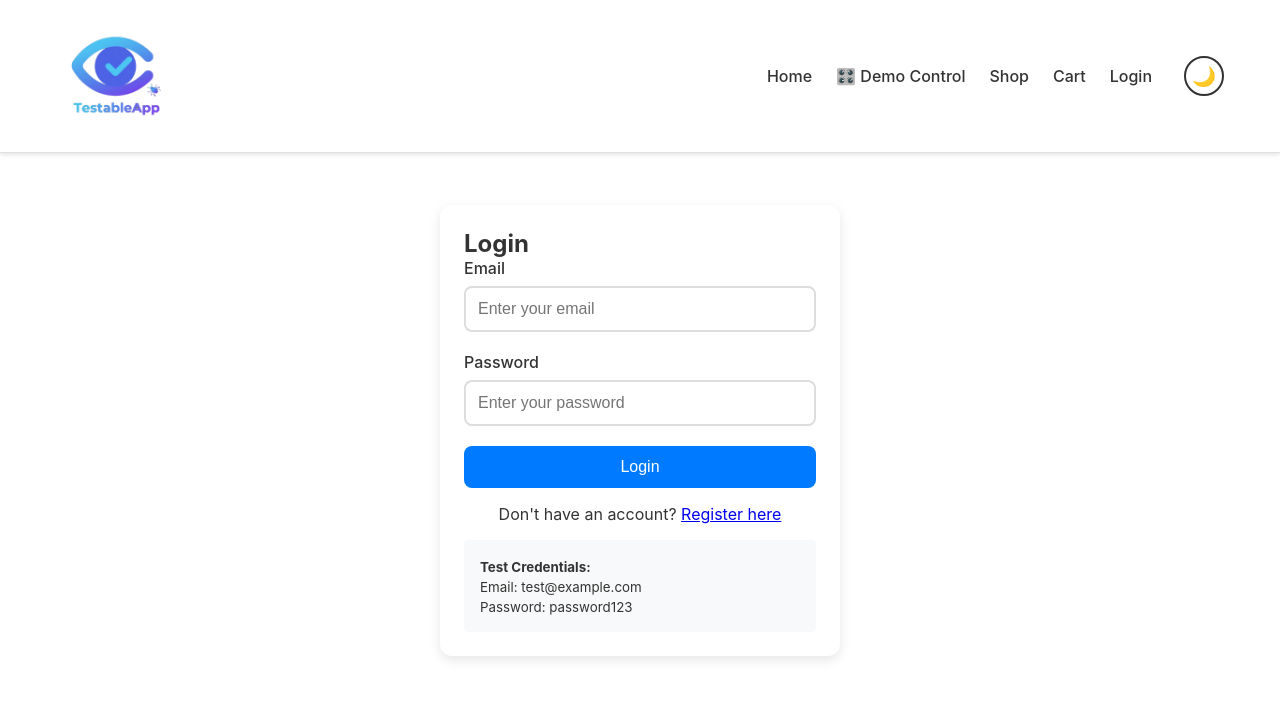
Test: Authentication Flow › Login Page › should show error for invalid credentials
Type "wrong@example.com" into the field with test id "email-input". click: (640, 309)
box: [464, 286, 816, 332]
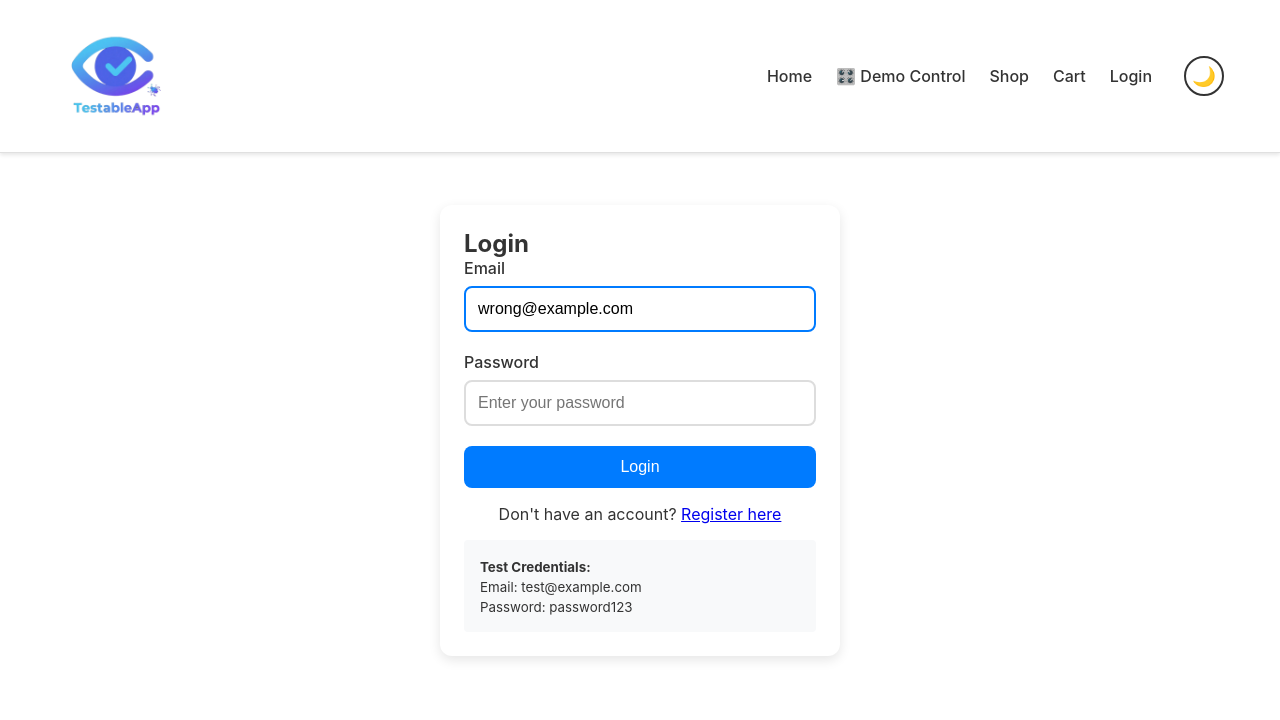
Type "wrongpassword" into the password field with test id "password-input". click: (640, 403)
box: [464, 380, 816, 426]
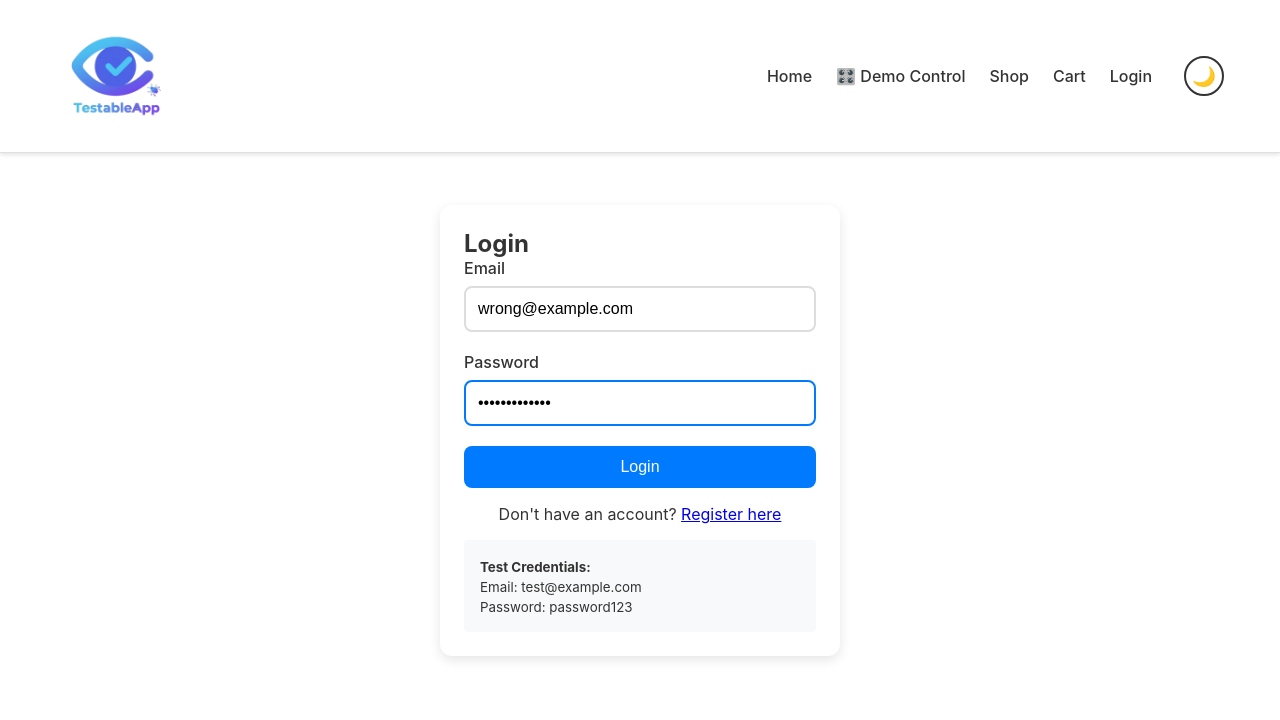
Click the button with test id "login-submit". click: (640, 467)
box: [464, 446, 816, 488]
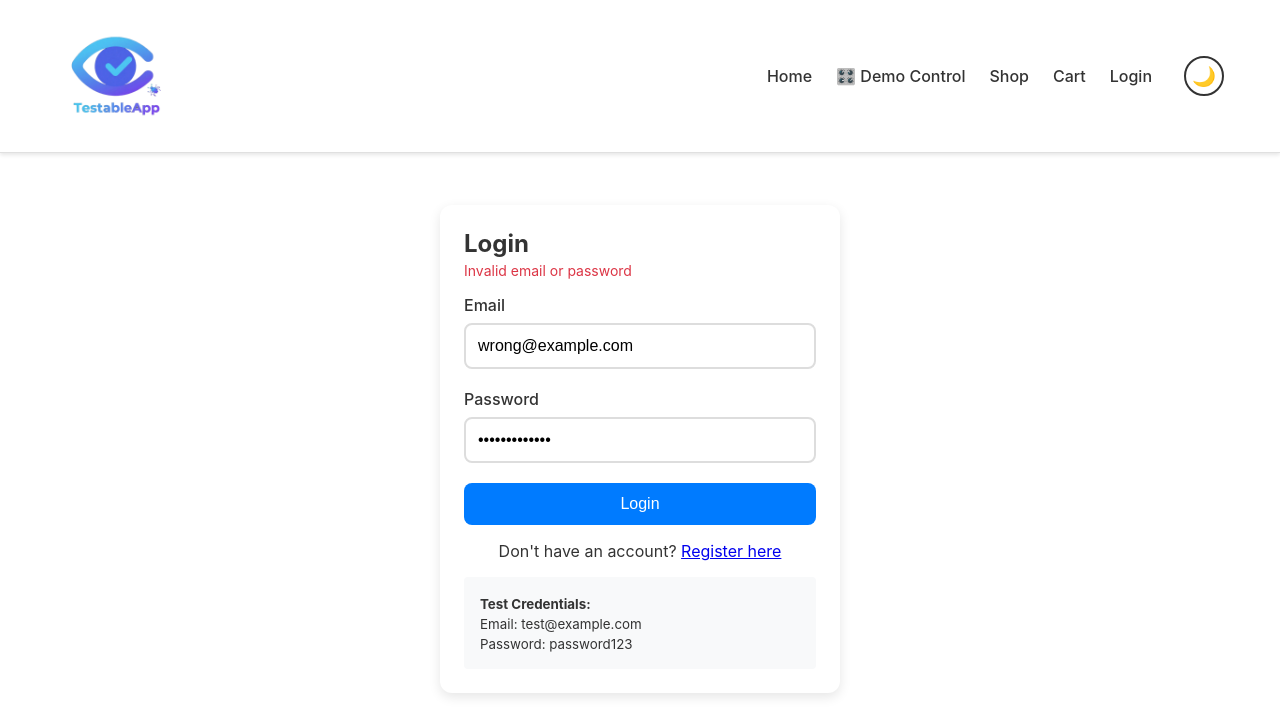
Result: the text with test id "login-error" reads "Invalid email or password" at [464, 262, 632, 279]
